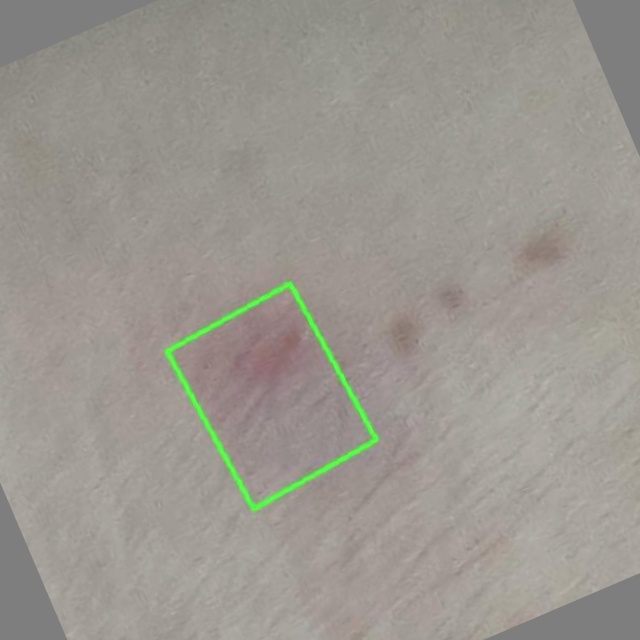Tinea Corporis: (167, 282, 377, 507)
